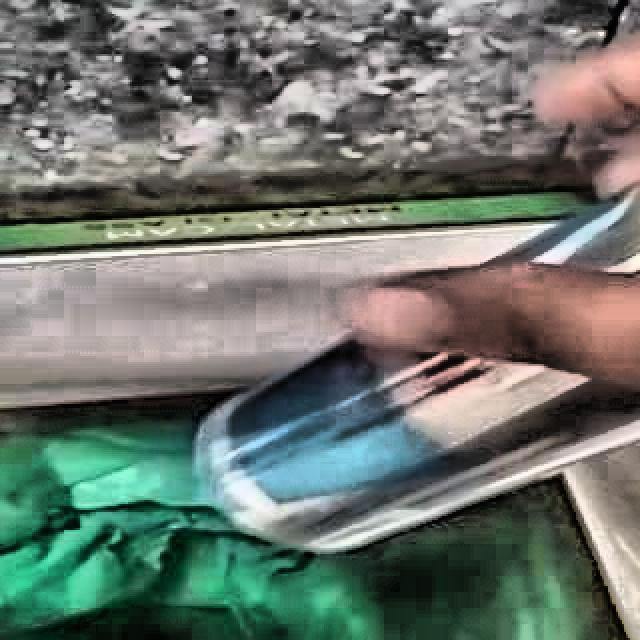metal: (195, 340, 640, 552), (501, 192, 640, 270)
